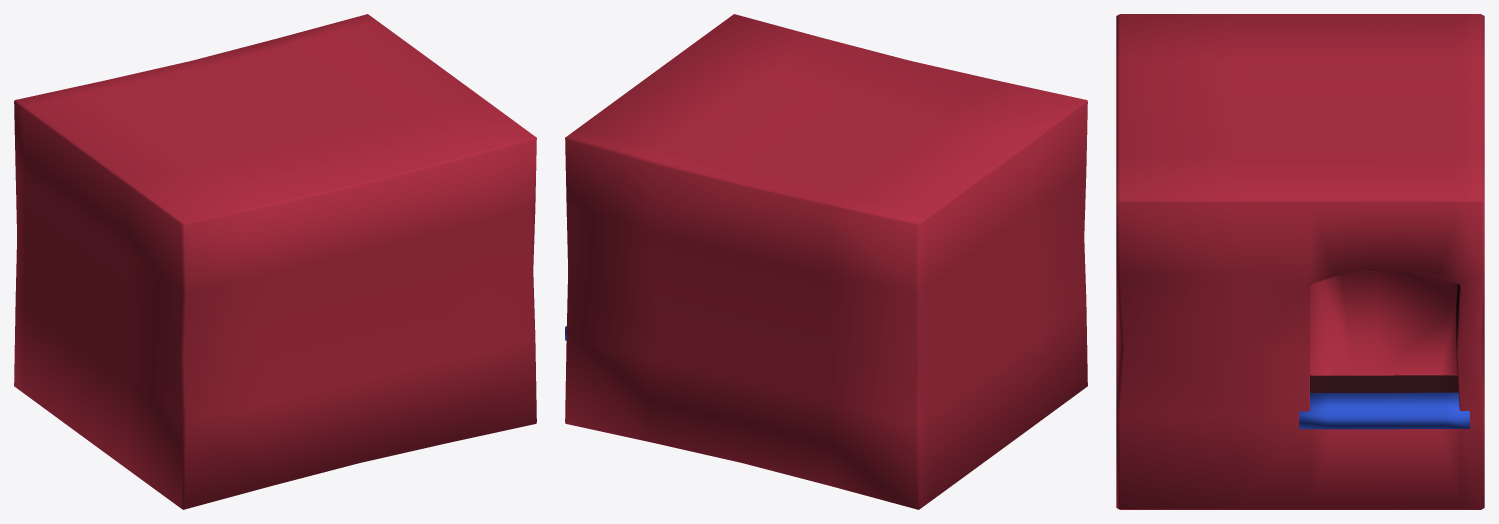
The model's file is BuildingShop.fbx.
3 renders of one model, left to right at view 1: azimuth 30°, elevation 25°; view 2: azimuth 150°, elevation 25°; view 3: azimuth 270°, elevation 25°, orthographic. The views are drawn at different scales.
Parts seen in each view (by area): view 1: Building_Shop; view 2: Building_Shop; view 3: Building_Shop.
Part boxes in pixels (x1=…): Building_Shop: x1=14, y1=14, x2=536, y2=509; Building_Shop: x1=565, y1=14, x2=1087, y2=509; Building_Shop: x1=1116, y1=14, x2=1484, y2=509.
Bounding box in the file's own units: 5.14 × 4.21 × 3.92.
